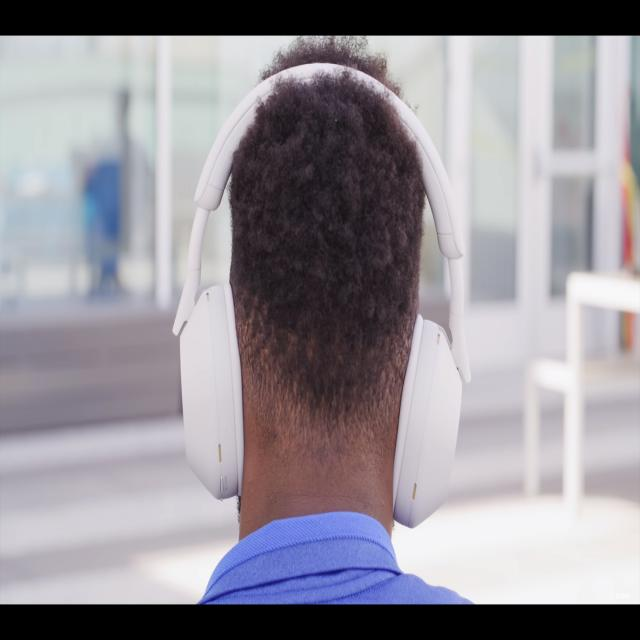Headphone: (171, 60, 476, 530)
